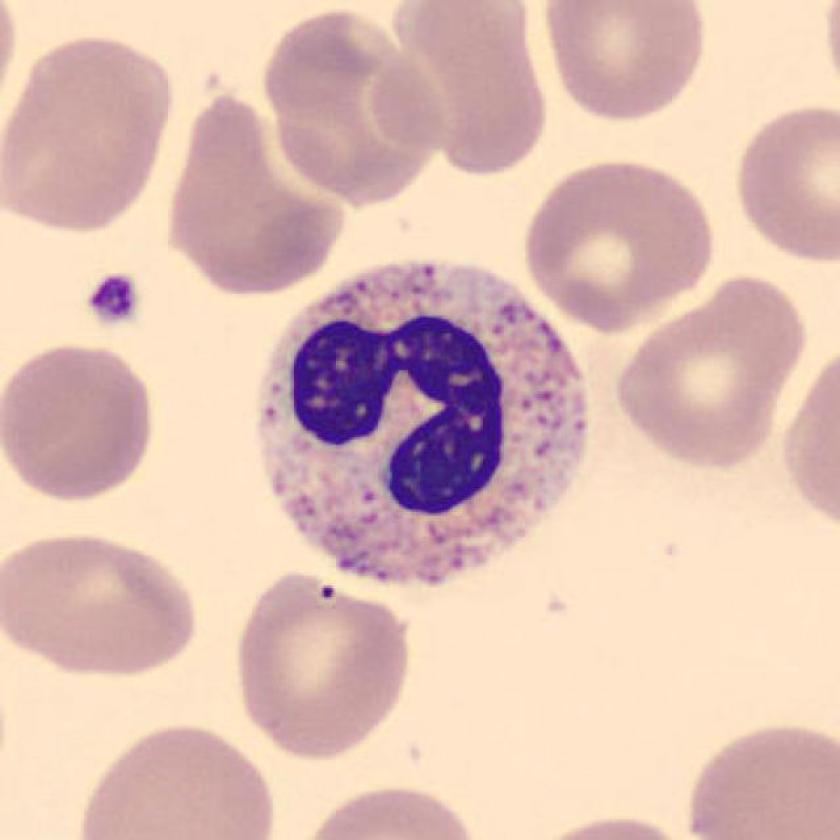neutrophil: (260, 261, 591, 581)
